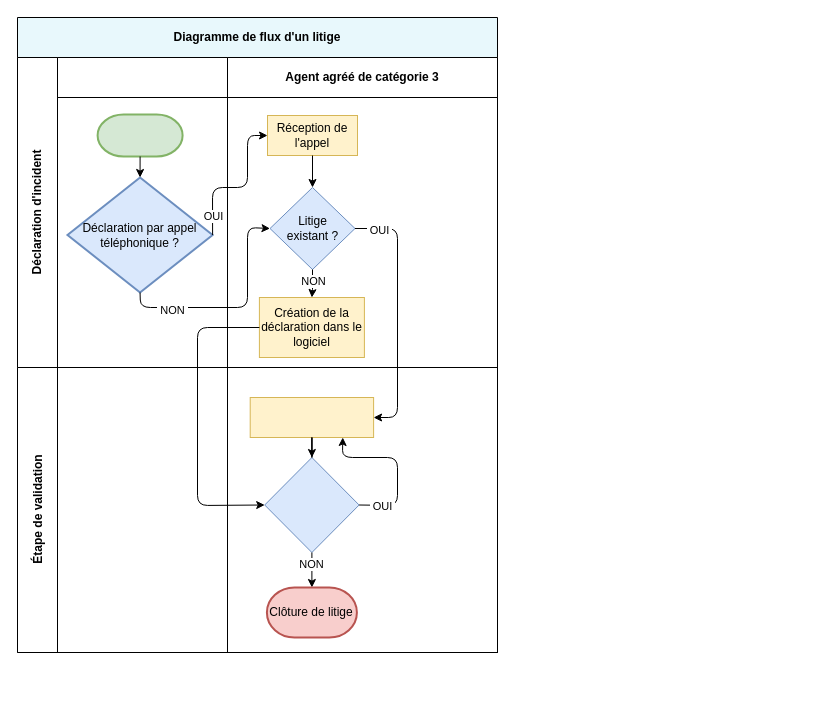
Image size: 835x715. Some labels were removed from this diagram. The shapes that lost their labels are listed below. From the top down, each one's box as (x1, y1, x2, y2) in pixels, then its label:
(96, 113, 183, 157): Déclaration d'un litige
(56, 56, 228, 368): Civil & Organisations
(249, 396, 374, 438): Mise à jour des informations du litige
(264, 456, 359, 552): Y a-t-il des modifications à apporter ?
